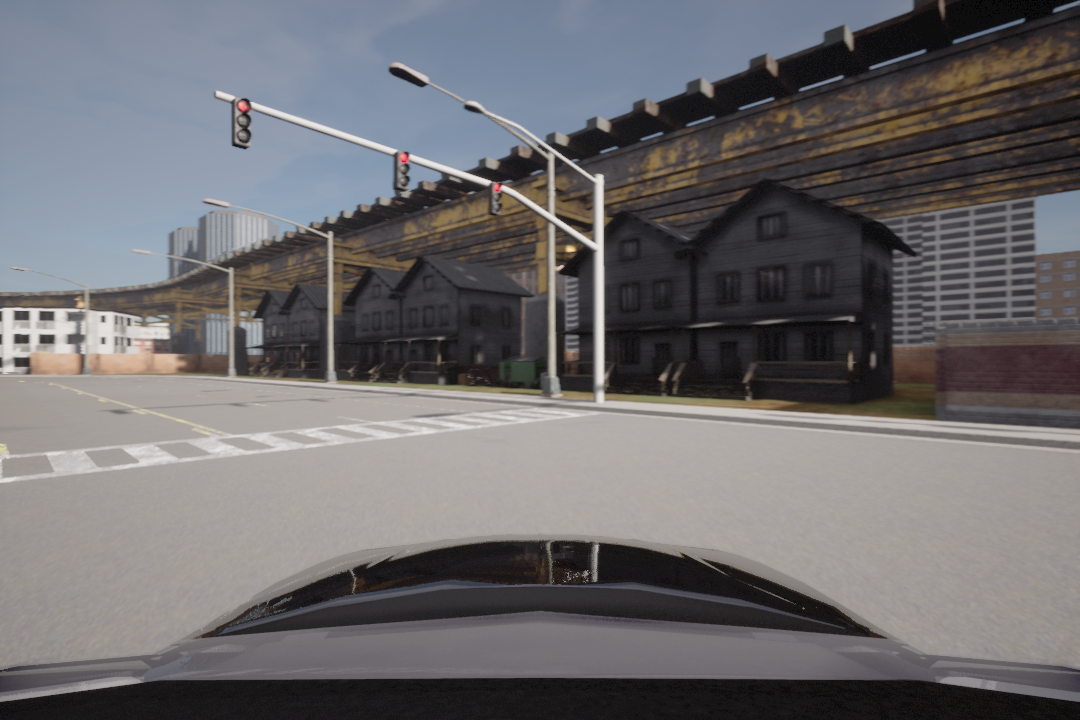TrafficLight: (230, 95, 253, 144), (393, 154, 414, 191), (490, 181, 507, 217)
walkside: (1, 408, 629, 486)
